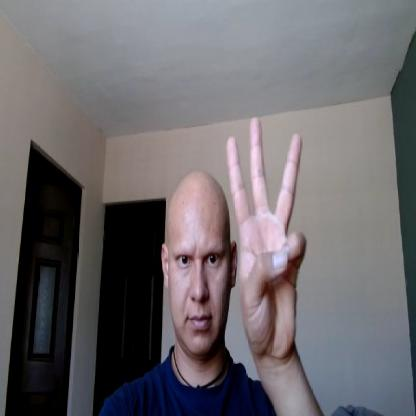W: (225, 119, 308, 358)
